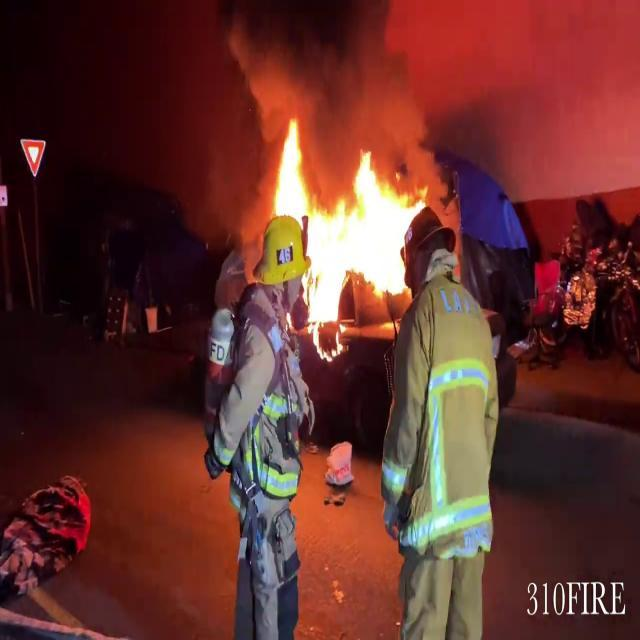Fire: (264, 110, 428, 332)
Smoke: (227, 0, 441, 150)
